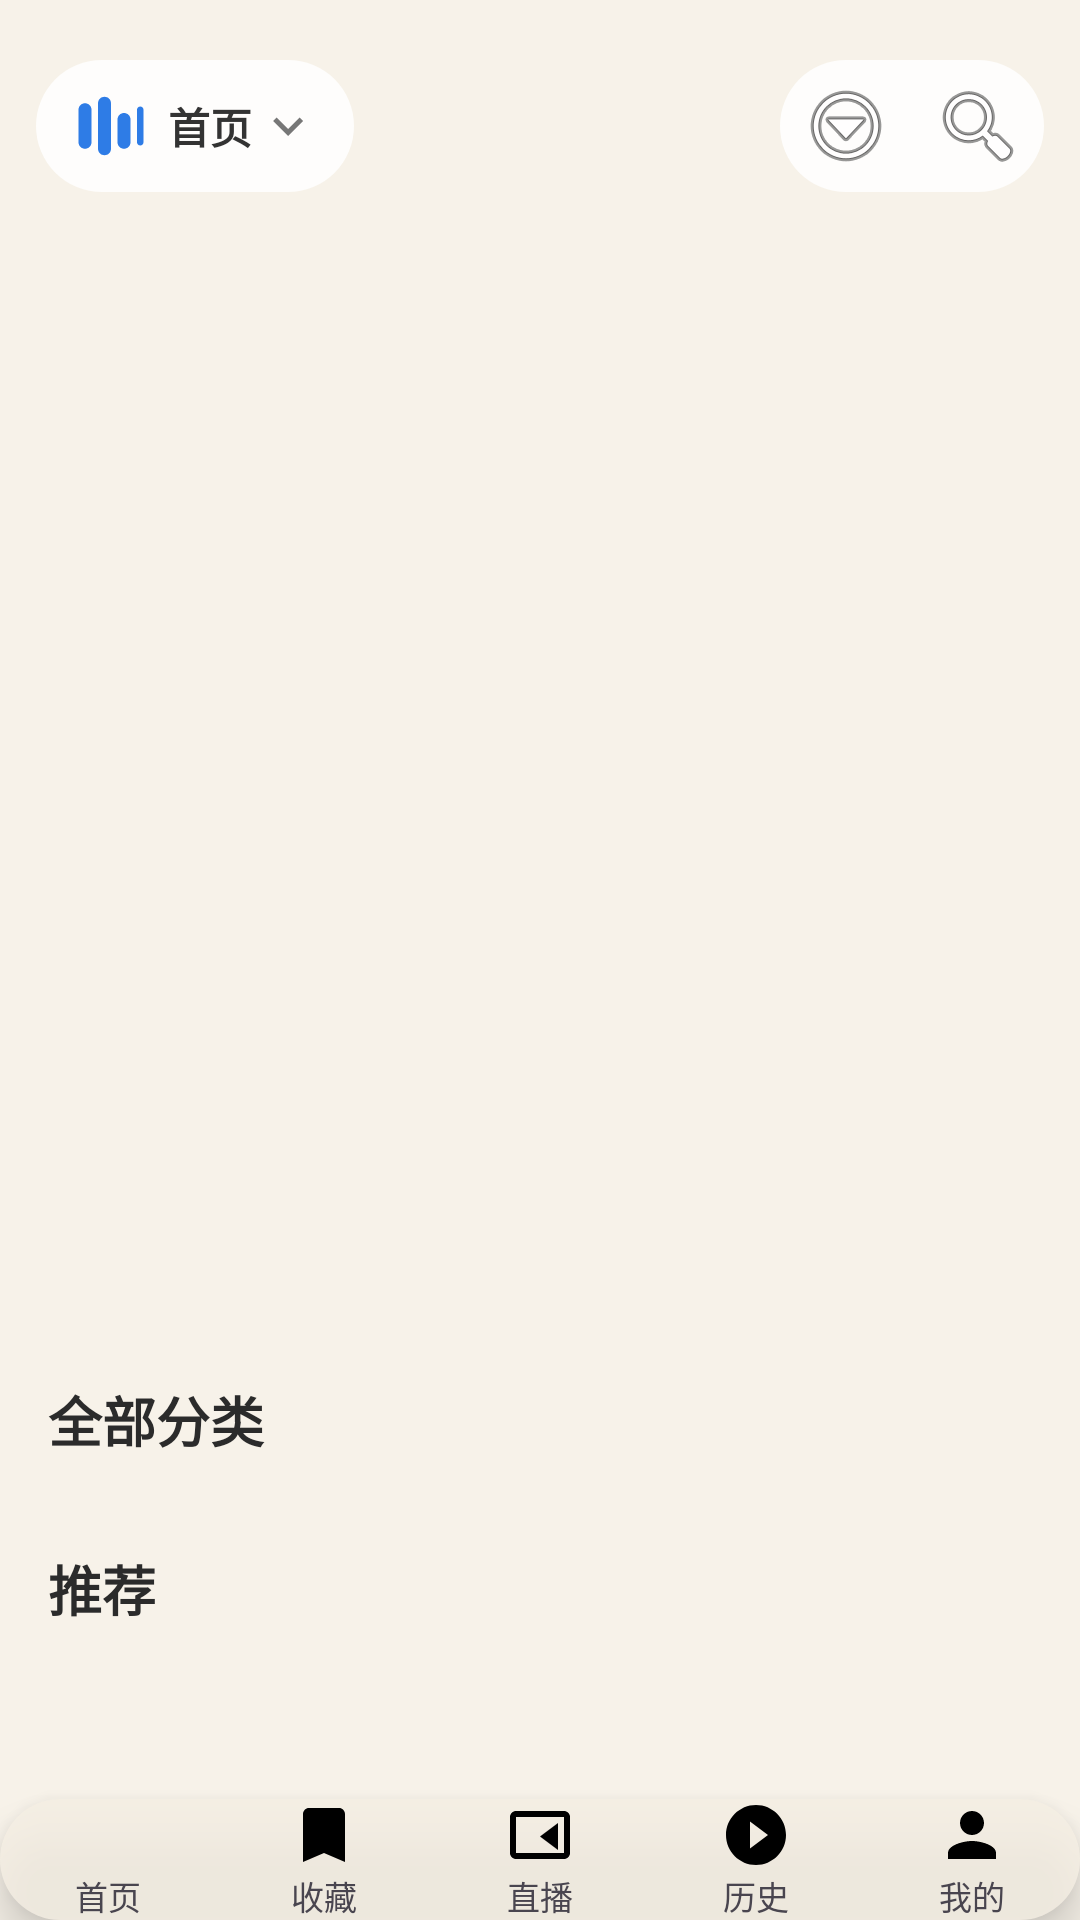

Locate icon controls on the screen. Image size 1080px×1920px, boxes as detection(x1, y1, x2, y2).
arrow down: detection(273, 117, 303, 136)
equalizer: detection(78, 96, 144, 156)
搜索: detection(912, 60, 1044, 192)
